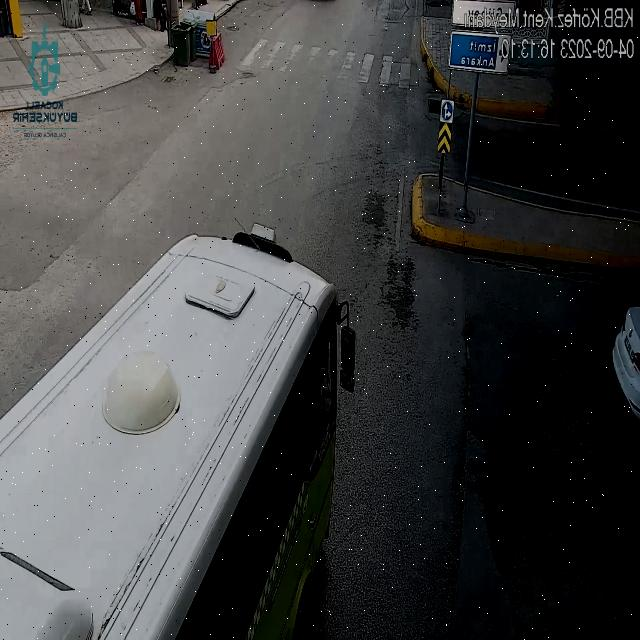bus: (1, 231, 359, 640)
